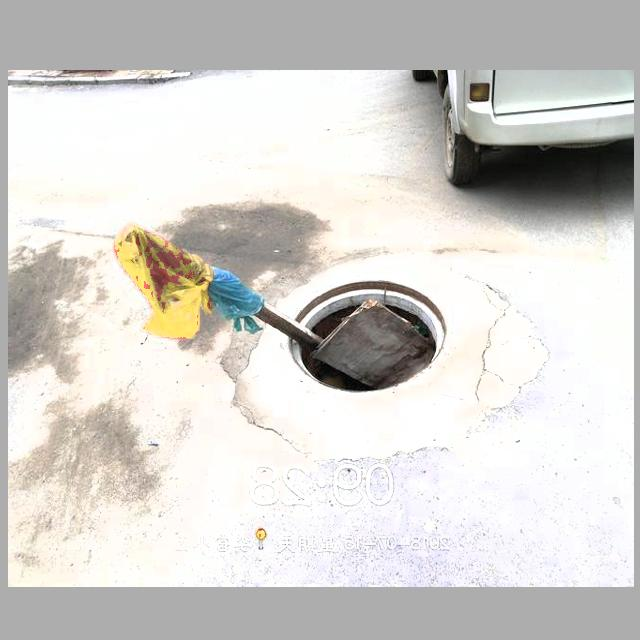lose: (273, 266, 475, 407)
